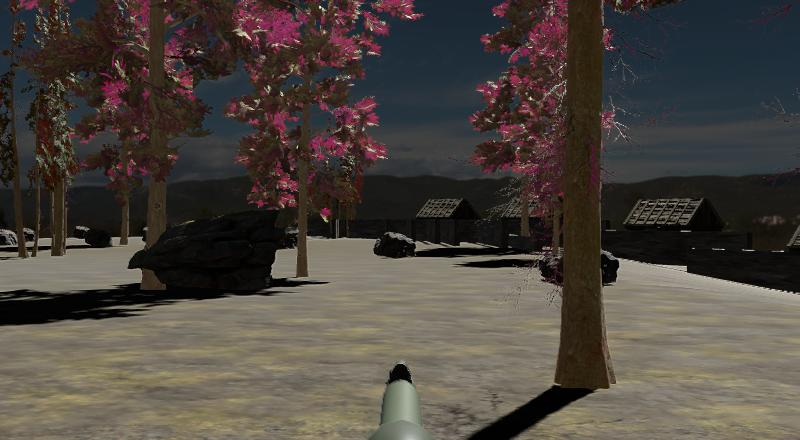House: (624, 196, 724, 234)
